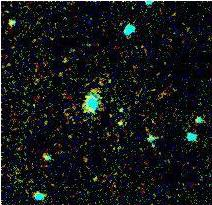star: (106, 100, 136, 130)
